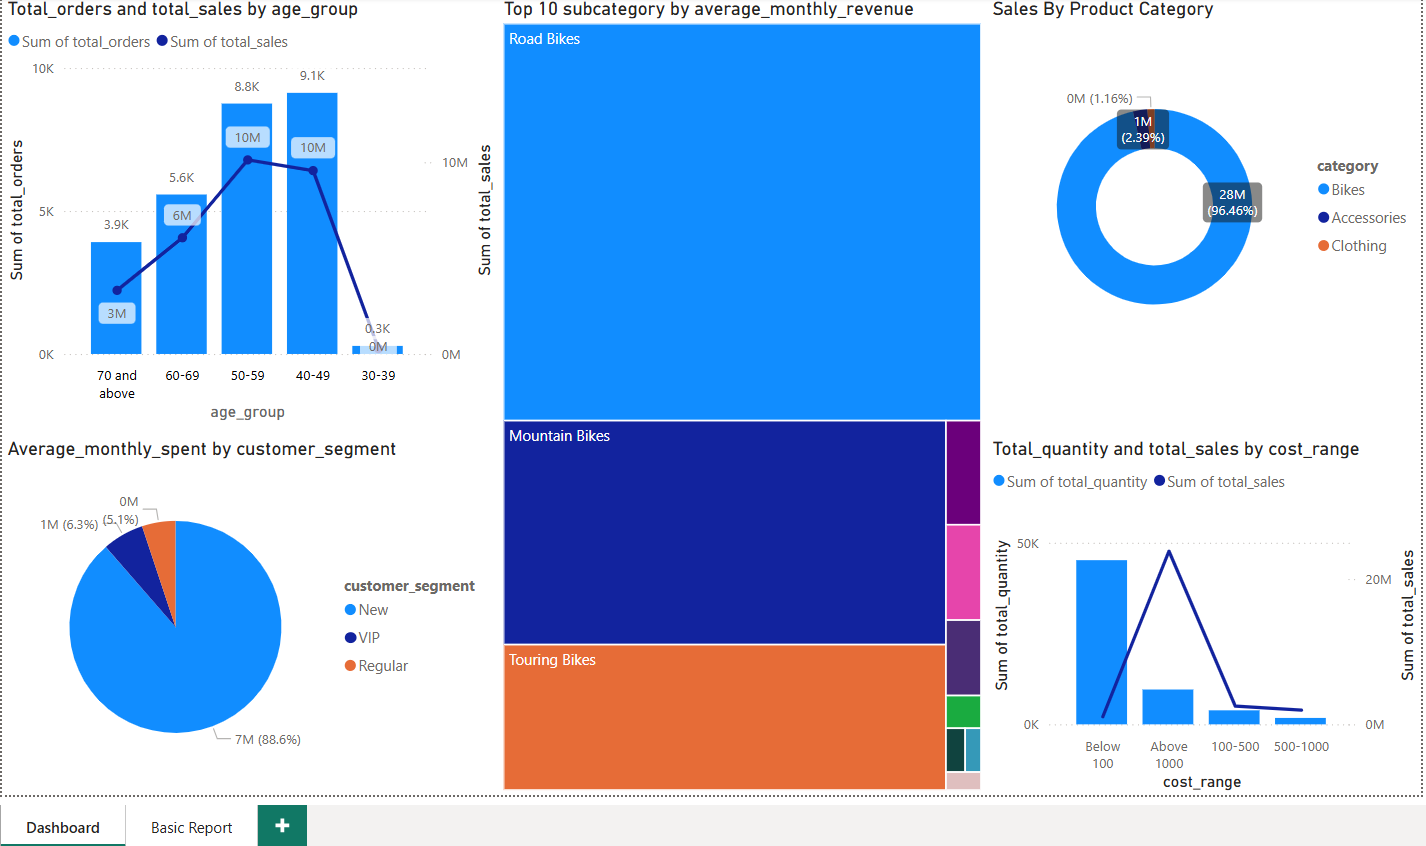

The page's visual inventory and layout, read from the dashboard file:
{"tool":"powerbi","page":{"name":"Dashboard","canvas":[1280,720],"ordinal":0},"visuals":[{"type":"lineStackedColumnComboChart","title":"Total_orders and total_sales by age_group","fields":{"Category":["gold_customer_report.age_group"],"Y2":["Sum(gold_customer_report.total_sales)"],"Y":["Sum(gold customer report.total_orders)"]},"box":[0,0,447.3,387],"z":0},{"type":"pieChart","title":"Average_monthly_spent by customer_segment","fields":{"Category":["gold customer report.customer_segment"],"Y":["Sum(gold customer report.average_monthly_spent)"]},"box":[0,396.6,447.3,323.8],"z":1000},{"type":"donutChart","title":"Sales By Product Category","fields":{"Category":["Sales by Product Category.category"],"Y":["Sum(Sales by Product Category.total_sales)"],"Series":["Sales by Product Category.total_percentage"]},"box":[887.8,0,392.5,359.5],"z":2000},{"type":"lineStackedColumnComboChart","title":"Total_quantity and total_sales by cost_range","fields":{"Category":["Total sales Amount Quantities Sold by Cost Range.cost_range"],"Y":["Sum(Total sales Amount Quantities Sold by Cost Range.total_quantity)"],"Y2":["Sum(Total sales Amount Quantities Sold by Cost Range.total_sales)"]},"box":[887.8,396.6,392.5,323.8],"z":3000},{"type":"treemap","title":"Top 10 subcategory by average_monthly_revenue ","fields":{"Group":["Query2.subcategory"],"Values":["Sum(Query2.average_monthly_revenue)"]},"box":[447.3,0,440.5,720.4],"z":4000}]}

Visuals, with their boxes on the page's 1280x720 design canvas (x1, y1, x2, y2). These are canvas units, not pixel positions in the 1426x846 screenshot, which may show the page scaled, cropped or inside an application window:
"Total_orders and total_sales by age_group" lineStackedColumnComboChart: [left=0, top=0, right=447, bottom=387]
"Average_monthly_spent by customer_segment" pieChart: [left=0, top=397, right=447, bottom=720]
"Sales By Product Category" donutChart: [left=888, top=0, right=1280, bottom=360]
"Total_quantity and total_sales by cost_range" lineStackedColumnComboChart: [left=888, top=397, right=1280, bottom=720]
"Top 10 subcategory by average_monthly_revenue " treemap: [left=447, top=0, right=888, bottom=720]
